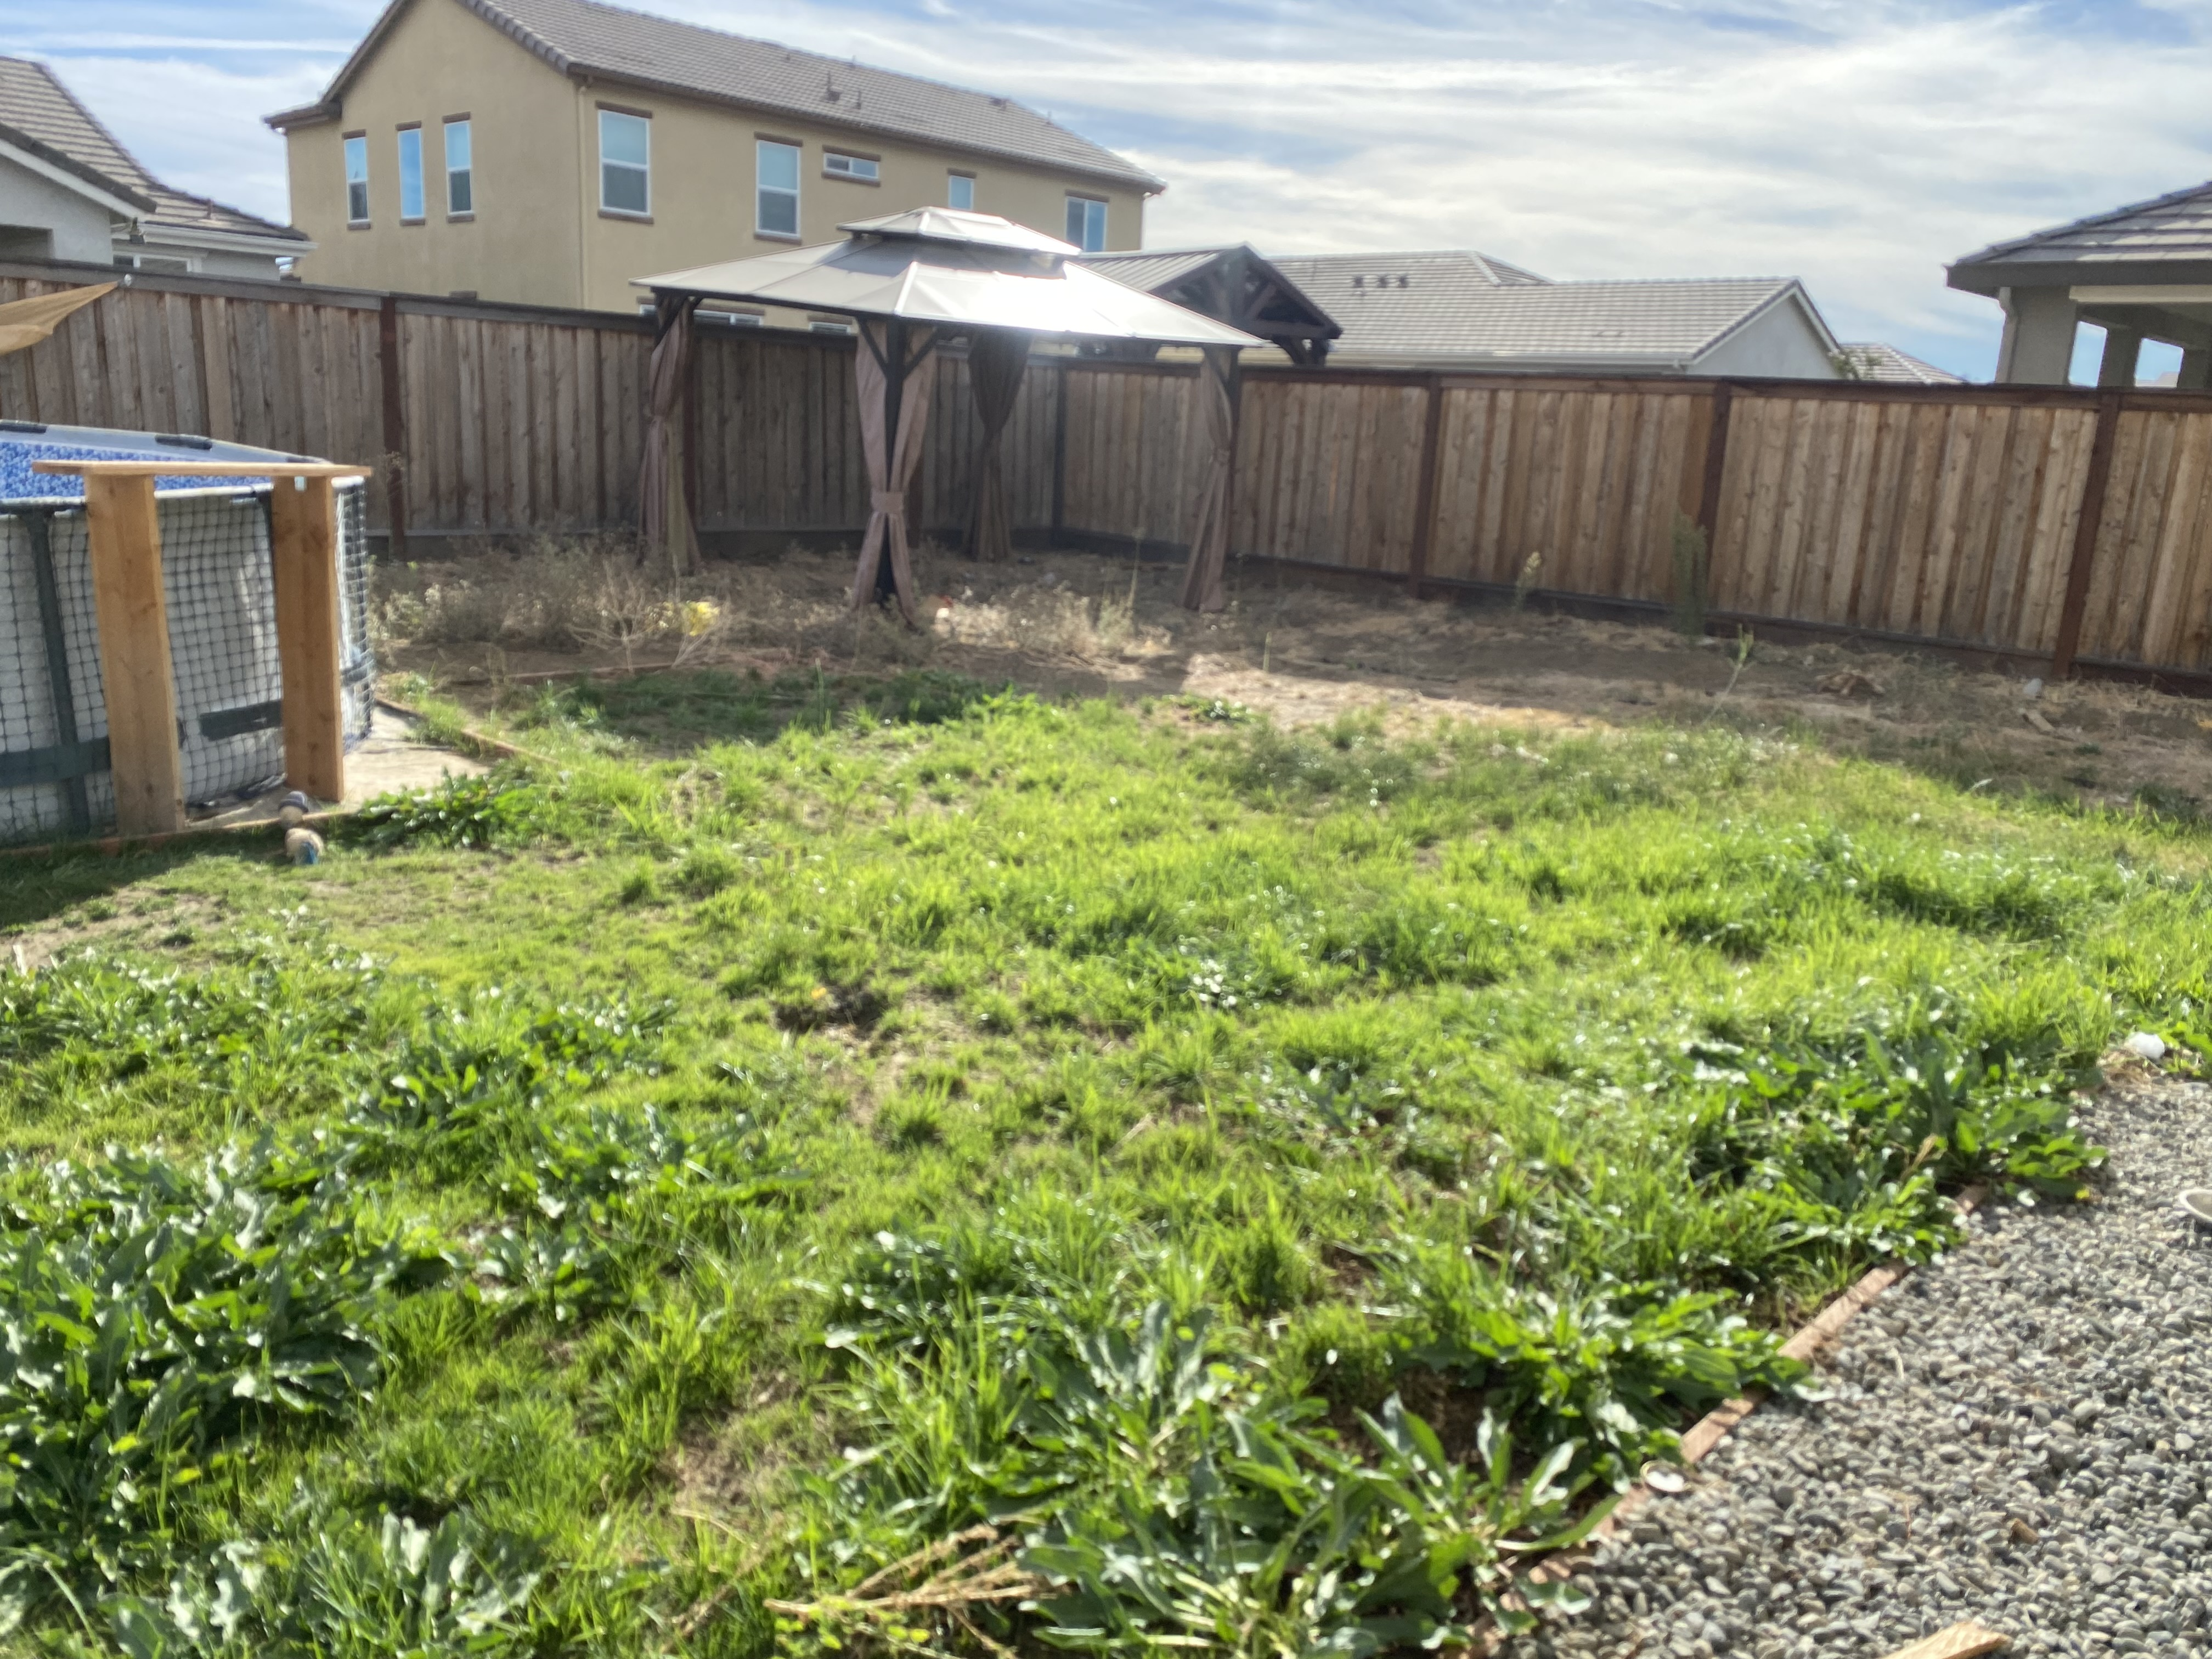weed: (1003, 1337, 1425, 1659), (71, 1169, 395, 1419), (1449, 1248, 1749, 1476), (134, 1514, 592, 1659), (408, 1012, 660, 1270)
